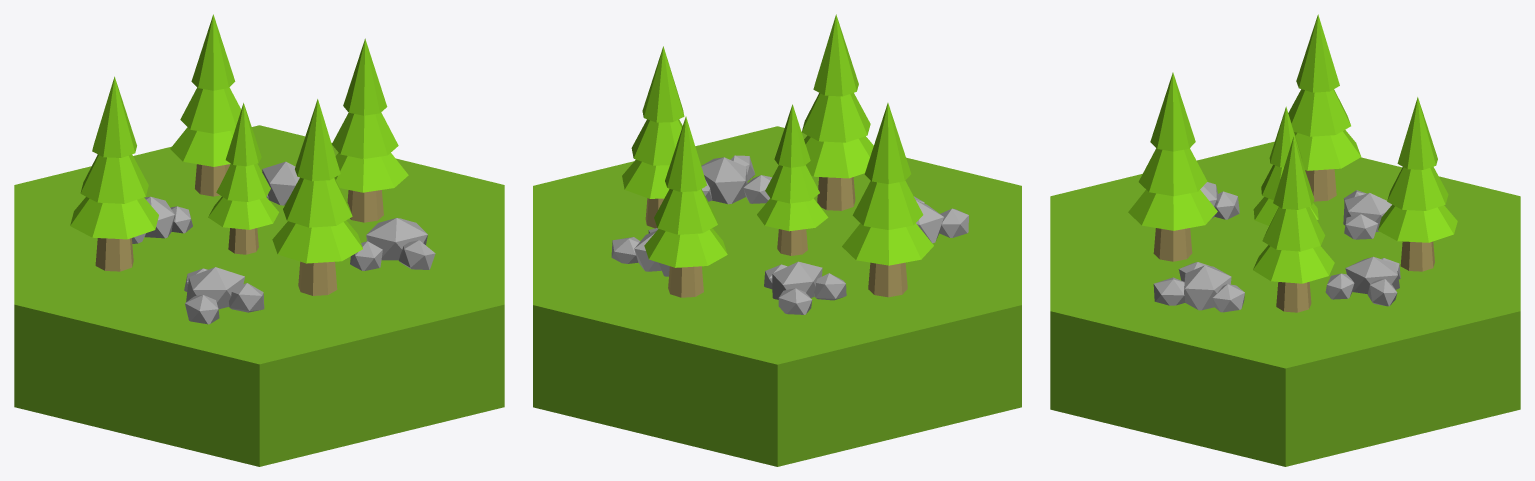
File: Pinos_Bajos_Rocas.fbx
3 renders of one model, left to right at view 1: azimuth 30°, elevation 25°; view 2: azimuth 150°, elevation 25°; view 3: azimuth 270°, elevation 25°, orthographic. The views are drawn at different scales.
Parts seen in each view (by area): view 1: Pinos_Bajos_Rocas; view 2: Pinos_Bajos_Rocas; view 3: Pinos_Bajos_Rocas.
Boxes of the visible parts, x1,y1,x2,y2 form: Pinos_Bajos_Rocas: [14, 14, 504, 466]; Pinos_Bajos_Rocas: [533, 14, 1021, 466]; Pinos_Bajos_Rocas: [1050, 14, 1520, 466].
Size of the model in its own units: 200 by 114 by 173.
